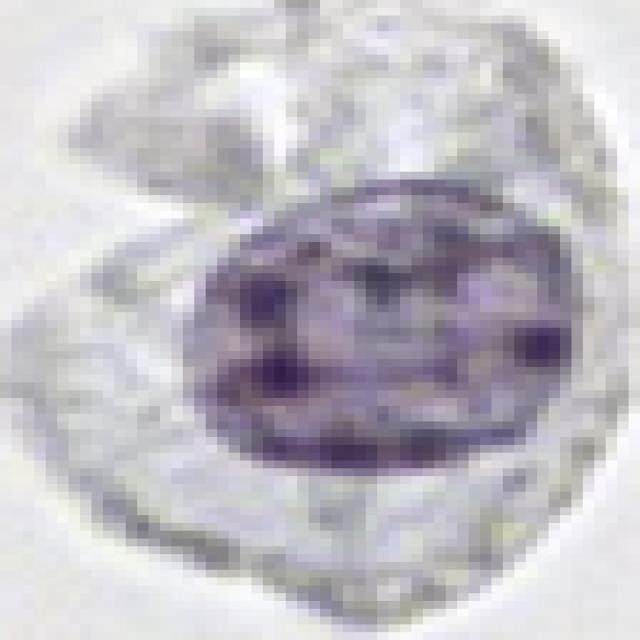nucleus: (161, 152, 616, 505)
